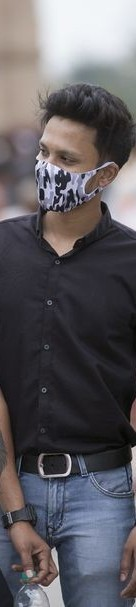with_mask: (24, 101, 125, 218)
